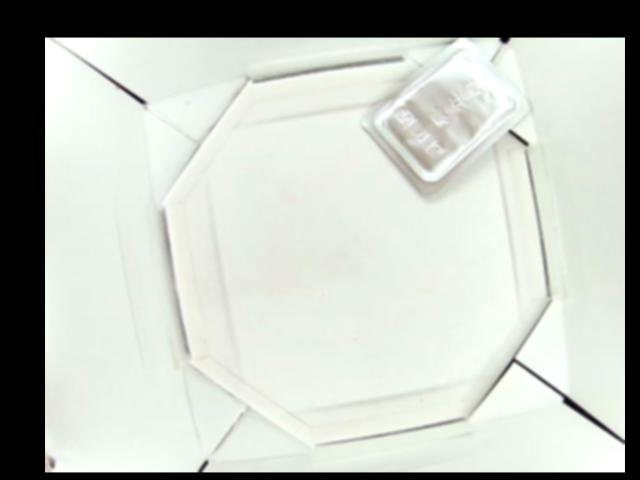Medicine: (359, 39, 533, 194)
